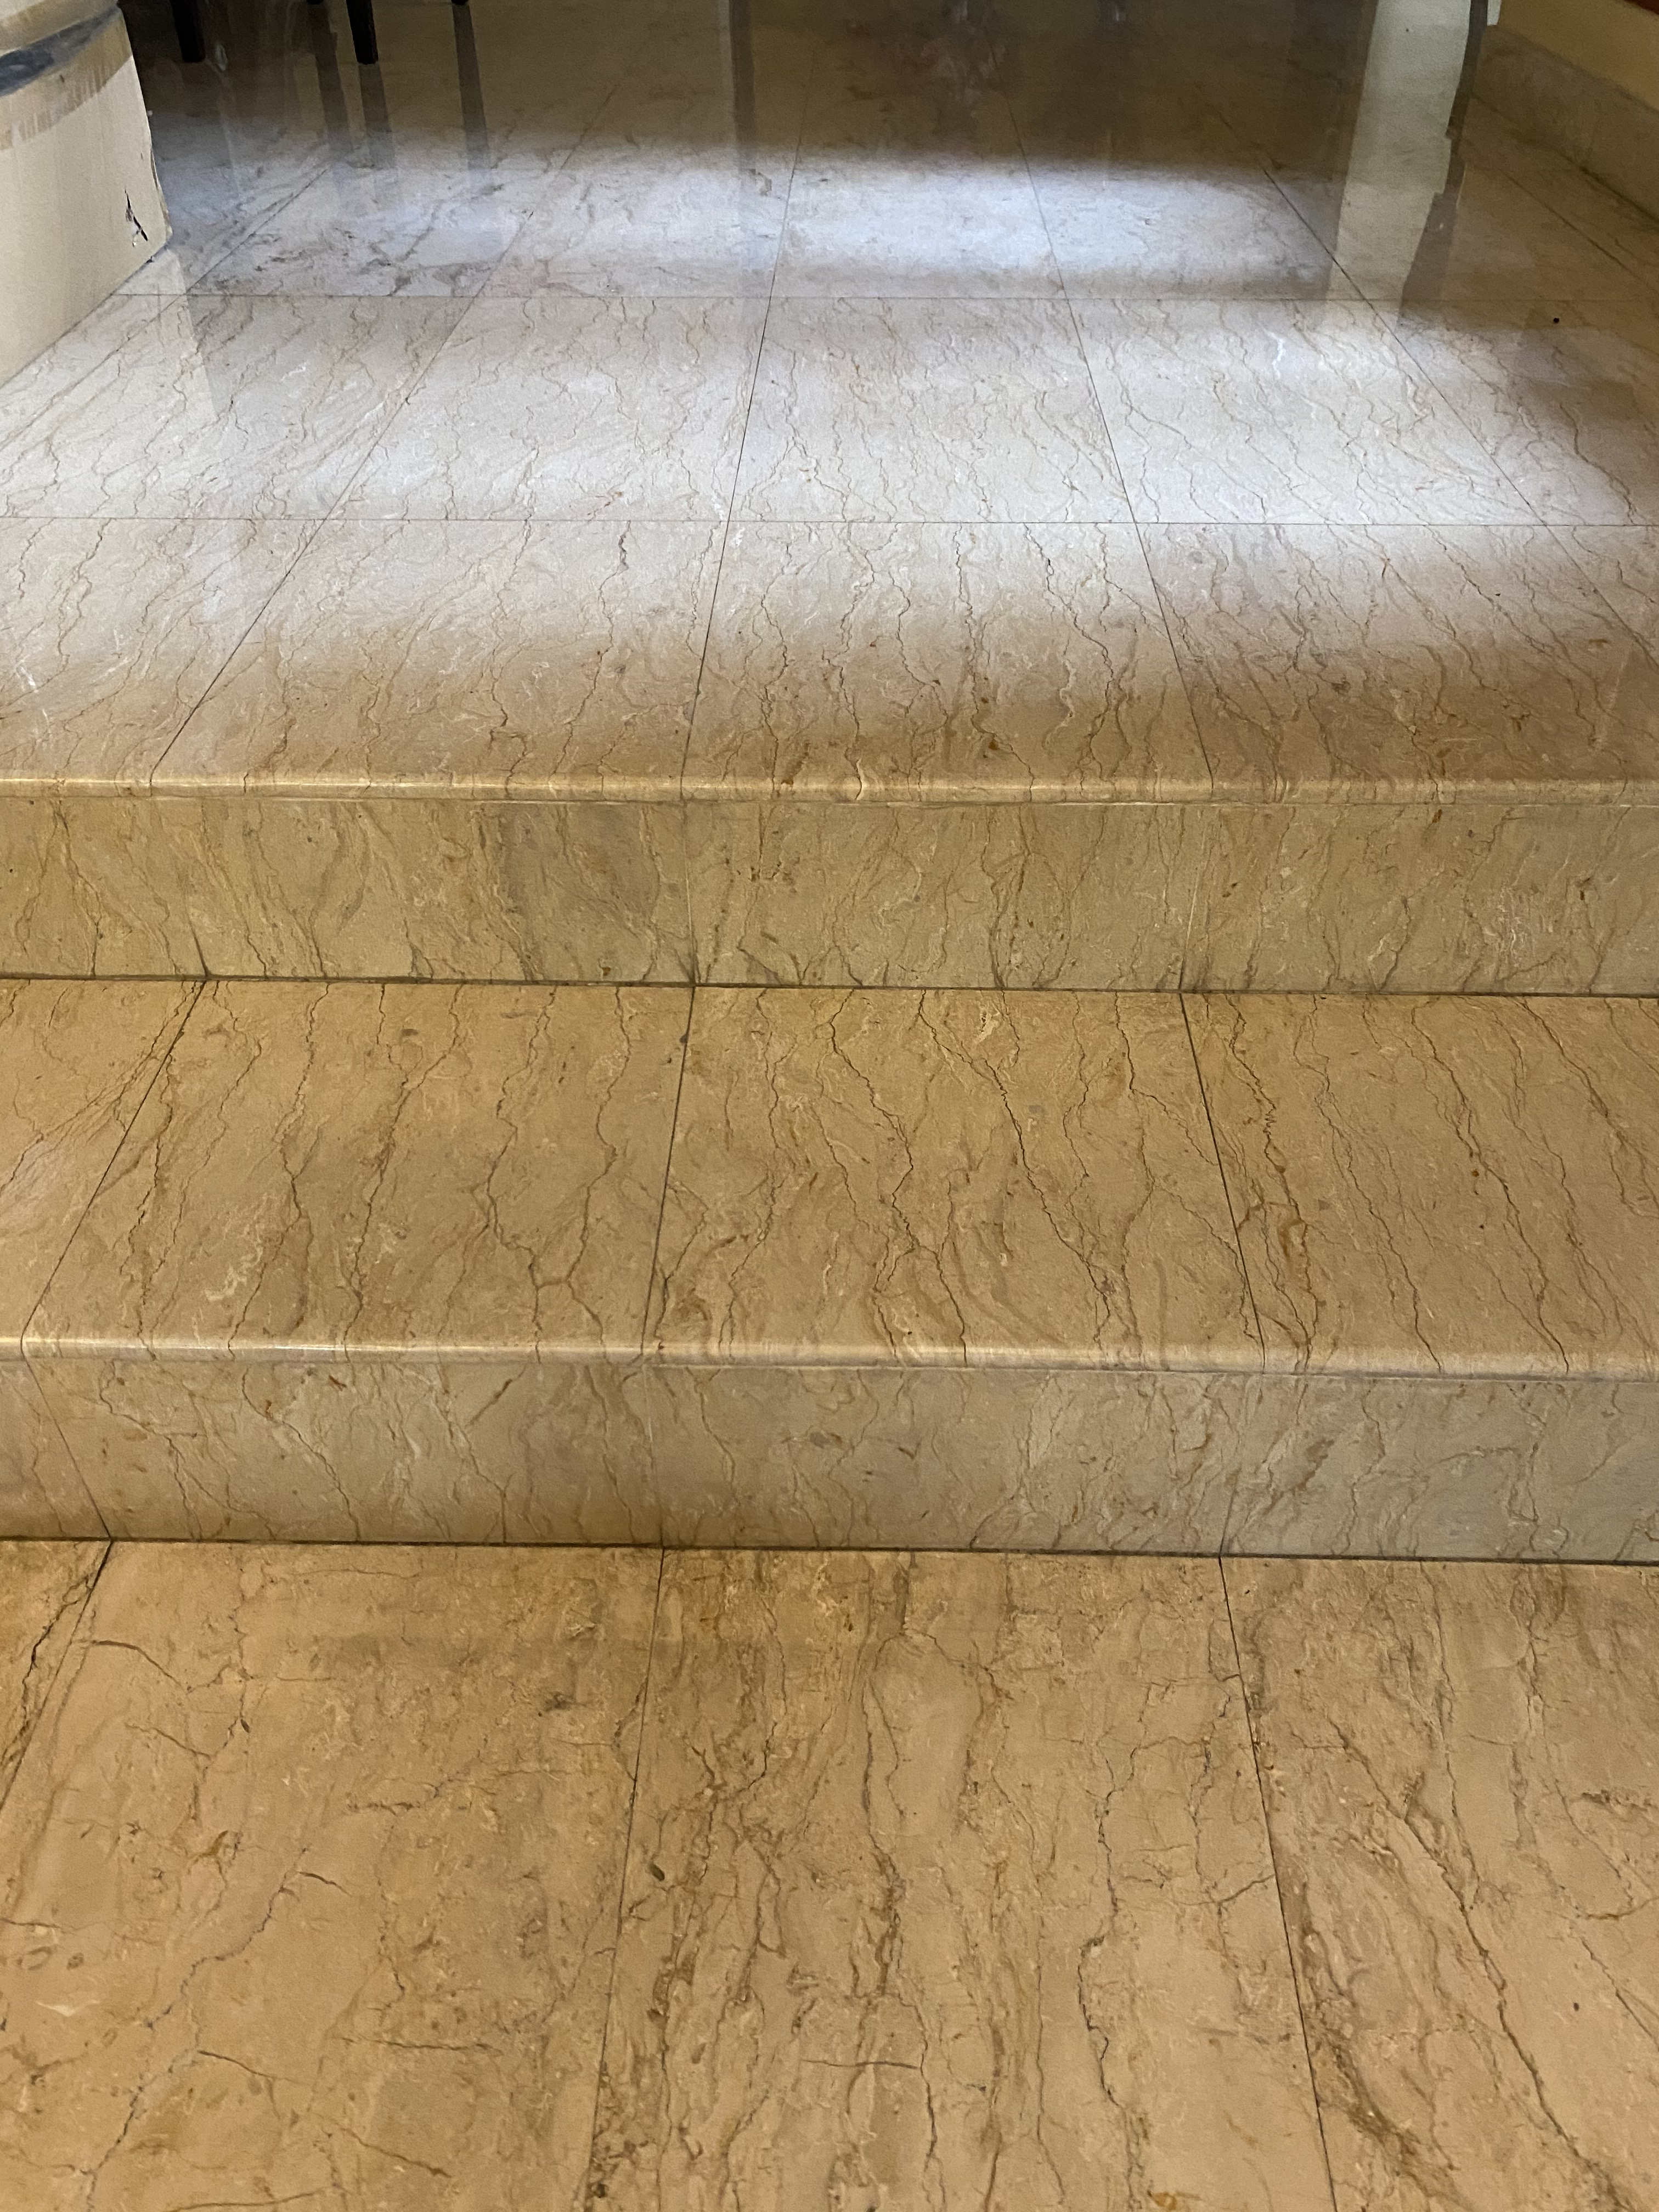upstairs: (0, 655, 1659, 1792)
